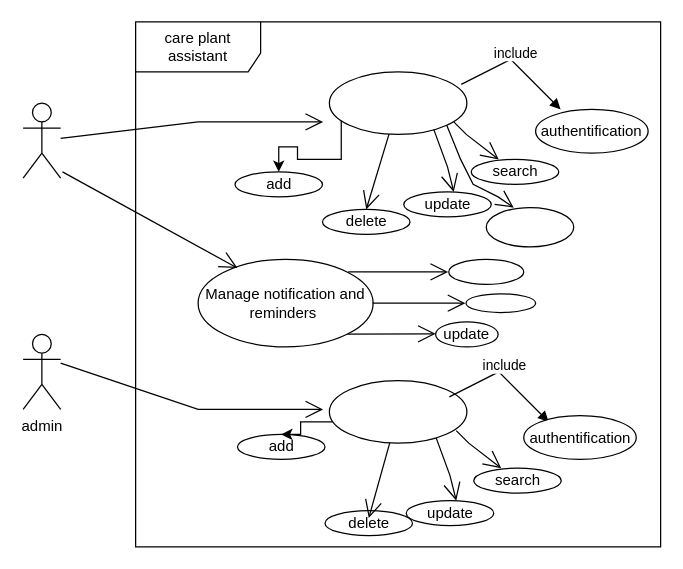
This 683x569 diagram has some shape labels left out. The shapes that lost their labels are listed below. From the top down, each one's centre as x and y in pixels, then its label:
the point at 397,102: plant management
the point at 41,140: user
the point at 529,226: health tracking
the point at 486,271: set
the point at 500,302: remove
the point at 397,411: user management
